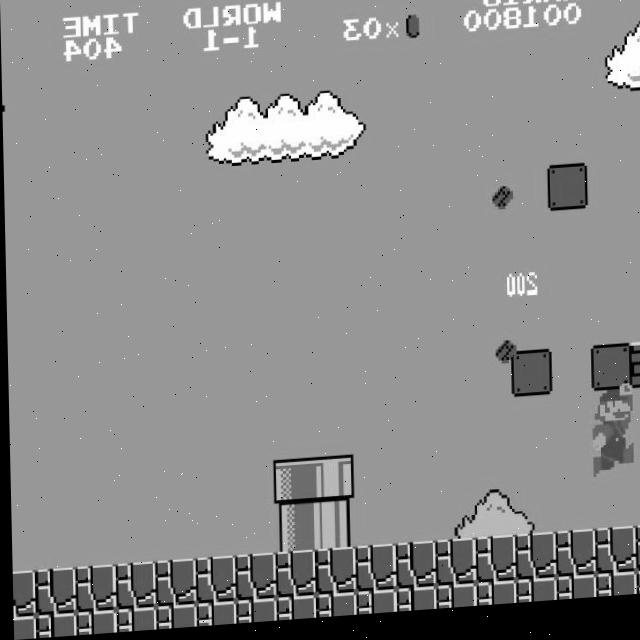0- big_mario: (589, 390, 634, 486)
1- brick_block: (630, 351, 640, 398)
14- pipe: (311, 506, 353, 554), (271, 508, 313, 556)
15- pipe_head: (270, 462, 312, 511), (310, 460, 352, 508)
17- undestructible_block: (592, 535, 634, 584), (472, 542, 514, 591), (352, 549, 394, 598), (232, 556, 274, 605), (112, 563, 154, 612), (552, 538, 594, 586), (512, 540, 554, 588), (432, 545, 474, 593), (392, 547, 434, 595), (312, 552, 354, 600), (272, 554, 314, 602), (192, 559, 234, 607), (152, 561, 194, 609), (72, 566, 114, 614), (32, 568, 74, 616), (10, 570, 33, 618), (513, 585, 554, 611), (393, 592, 434, 618), (273, 599, 314, 625), (153, 606, 194, 632), (33, 613, 74, 639), (593, 581, 634, 606), (553, 583, 594, 608), (473, 588, 514, 613), (433, 590, 474, 615), (353, 595, 394, 620), (313, 597, 354, 622), (233, 602, 274, 627), (193, 604, 234, 629), (113, 609, 154, 634), (73, 611, 114, 636), (11, 616, 33, 640), (633, 534, 640, 581), (634, 580, 640, 603)
3- empty_block: (589, 352, 631, 401), (509, 357, 551, 405), (546, 172, 587, 219)
